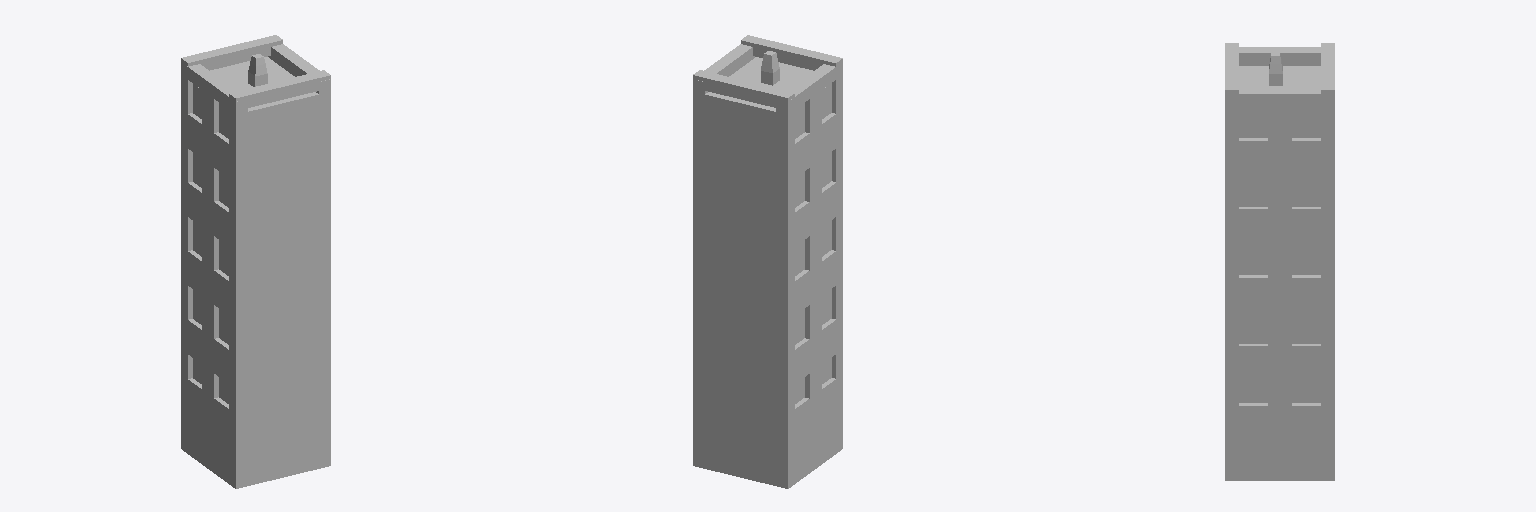
Rendered from block.obj.
The picture shows the model from 3 angles: view 1: azimuth 30°, elevation 25°; view 2: azimuth 150°, elevation 25°; view 3: azimuth 270°, elevation 25°; orthographic projection.
Parts seen in each view (by area): view 1: Cube_Cube.002, Cube.004_Cube.006, Cube.005_Cube.007, Cube.003_Cube.005, Cube.002_Cube.004, Cube.001_Cube.003; view 2: Cube_Cube.002, Cube.005_Cube.007, Cube.004_Cube.006, Cube.003_Cube.005, Cube.002_Cube.004, Cube.001_Cube.003; view 3: Cube_Cube.002, Cube.002_Cube.004, Cube.003_Cube.005, Cube.005_Cube.007, Cube.004_Cube.006.
Part boxes in pixels (left/top/right/bottom): Cube_Cube.002: left=181, top=57, right=330, bottom=488; Cube.004_Cube.006: left=229, top=70, right=330, bottom=107; Cube.005_Cube.007: left=181, top=35, right=282, bottom=70; Cube.003_Cube.005: left=181, top=62, right=247, bottom=114; Cube.002_Cube.004: left=268, top=44, right=330, bottom=94; Cube.001_Cube.003: left=248, top=54, right=267, bottom=86; Cube_Cube.002: left=693, top=57, right=842, bottom=488; Cube.005_Cube.007: left=693, top=70, right=794, bottom=107; Cube.004_Cube.006: left=741, top=35, right=842, bottom=70; Cube.003_Cube.005: left=776, top=62, right=842, bottom=114; Cube.002_Cube.004: left=693, top=44, right=754, bottom=94; Cube.001_Cube.003: left=761, top=51, right=779, bottom=85; Cube_Cube.002: left=1225, top=66, right=1334, bottom=480; Cube.002_Cube.004: left=1225, top=88, right=1334, bottom=106; Cube.003_Cube.005: left=1239, top=47, right=1320, bottom=65; Cube.005_Cube.007: left=1321, top=43, right=1334, bottom=93; Cube.004_Cube.006: left=1225, top=43, right=1238, bottom=93.
Bounding box in the file's own units: 2 × 8.06 × 2.